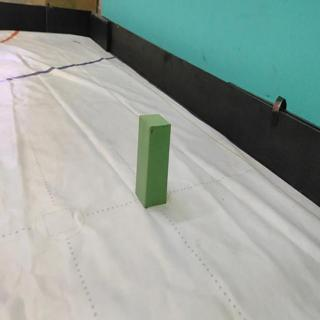greenbox: (135, 113, 170, 212)
